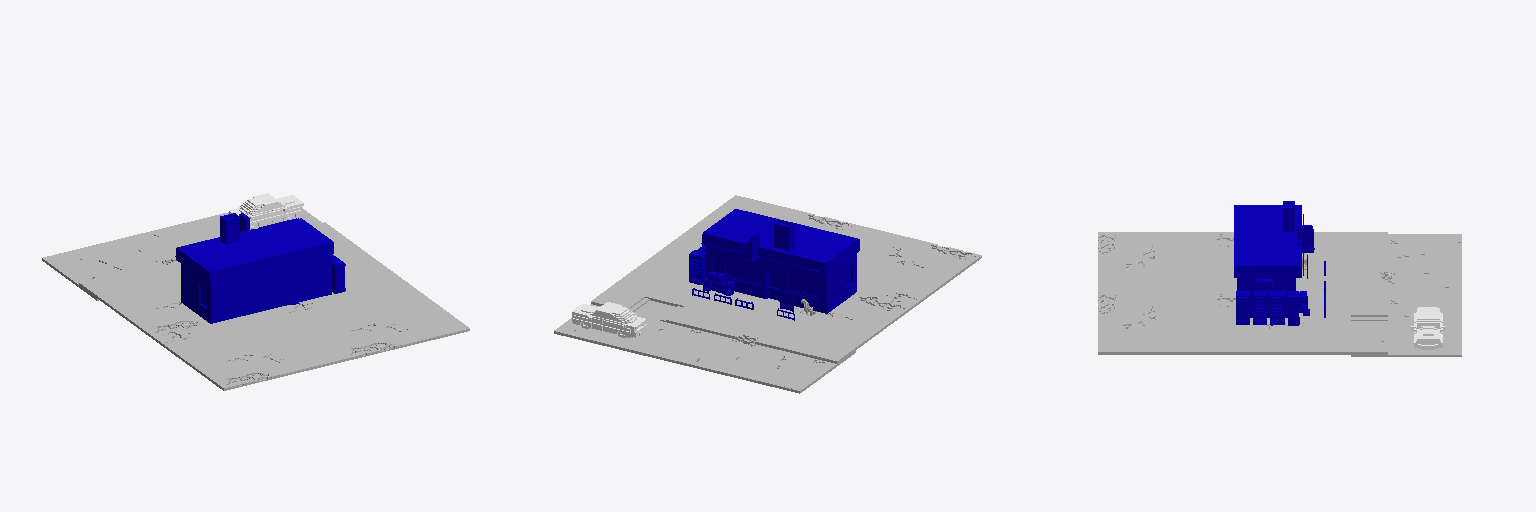
Rendered from level.obj.
3 views of the same model, side by side, from view 1: azimuth 30°, elevation 25°; view 2: azimuth 150°, elevation 25°; view 3: azimuth 270°, elevation 25° (orthographic).
Visible parts, largest first — view 1: GroundTile, shop1, Car; view 2: GroundTile, shop1, Car; view 3: GroundTile, shop1, Car.
Boxes of the visible parts, x1,y1,x2,y2 form: GroundTile: [42, 209, 469, 390]; shop1: [175, 213, 345, 323]; Car: [229, 193, 303, 229]; GroundTile: [554, 195, 981, 393]; shop1: [689, 209, 859, 320]; Car: [572, 302, 646, 337]; GroundTile: [1098, 232, 1461, 356]; shop1: [1234, 201, 1325, 325]; Car: [1411, 307, 1444, 349].
Bounding box in the file's own units: 20 × 6.36 × 25.6.